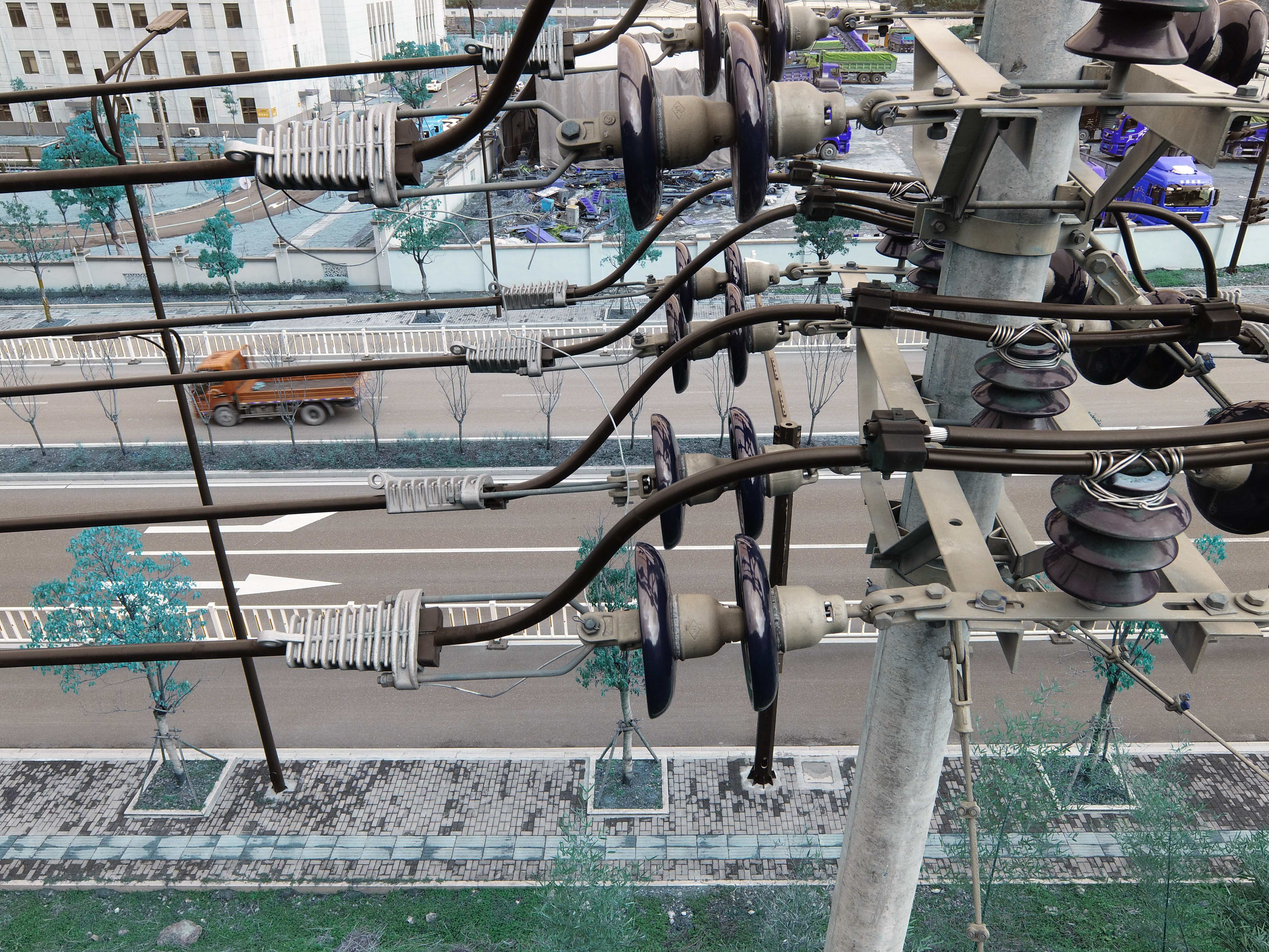severe_soiling_no_discharge_whole: (1038, 465, 1195, 611)
